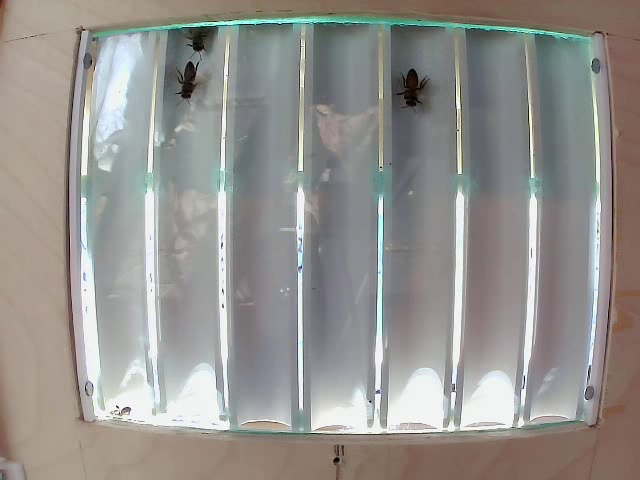bee: (389, 58, 429, 111), (170, 61, 194, 98)
